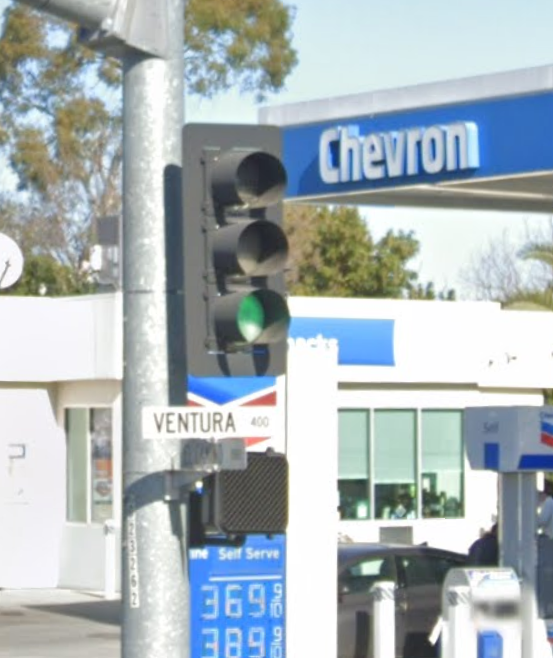green_light: (194, 134, 286, 369)
